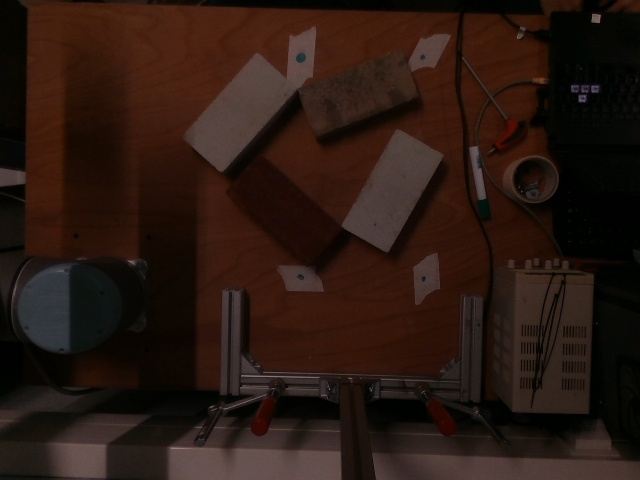brick: (185, 53, 295, 168), (226, 156, 342, 265), (344, 129, 441, 249), (298, 52, 419, 136)
